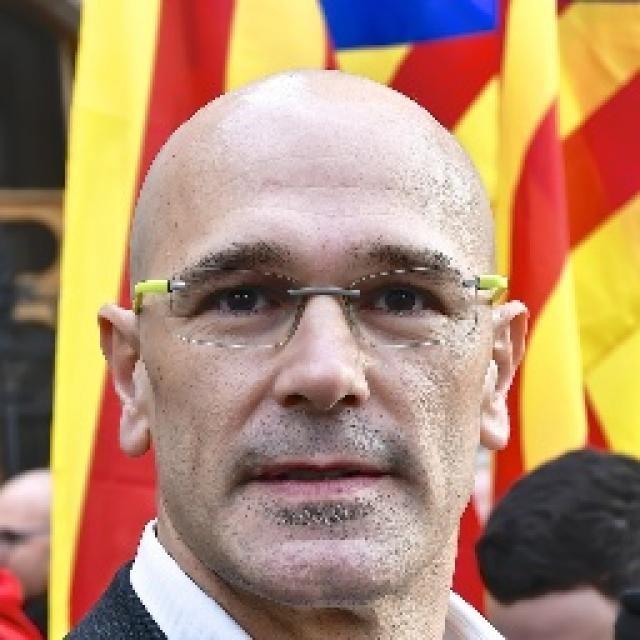earlobe: (476, 410, 513, 454), (116, 415, 152, 457)
eye: (365, 285, 433, 317), (208, 288, 279, 314)
nose: (272, 400, 362, 442)
wholeear: (96, 303, 152, 456), (478, 293, 529, 455)
